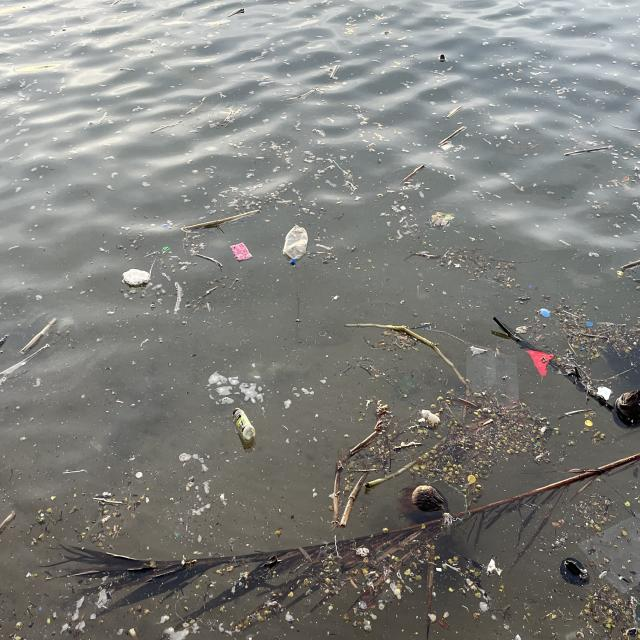foam: (123, 269, 150, 287), (598, 385, 611, 400)
plastic: (284, 223, 308, 267), (233, 407, 255, 440), (421, 407, 440, 427)
plastic bottle: (580, 513, 640, 593), (464, 342, 521, 407), (426, 211, 454, 230)
unknow: (526, 350, 554, 377), (229, 242, 253, 262)
